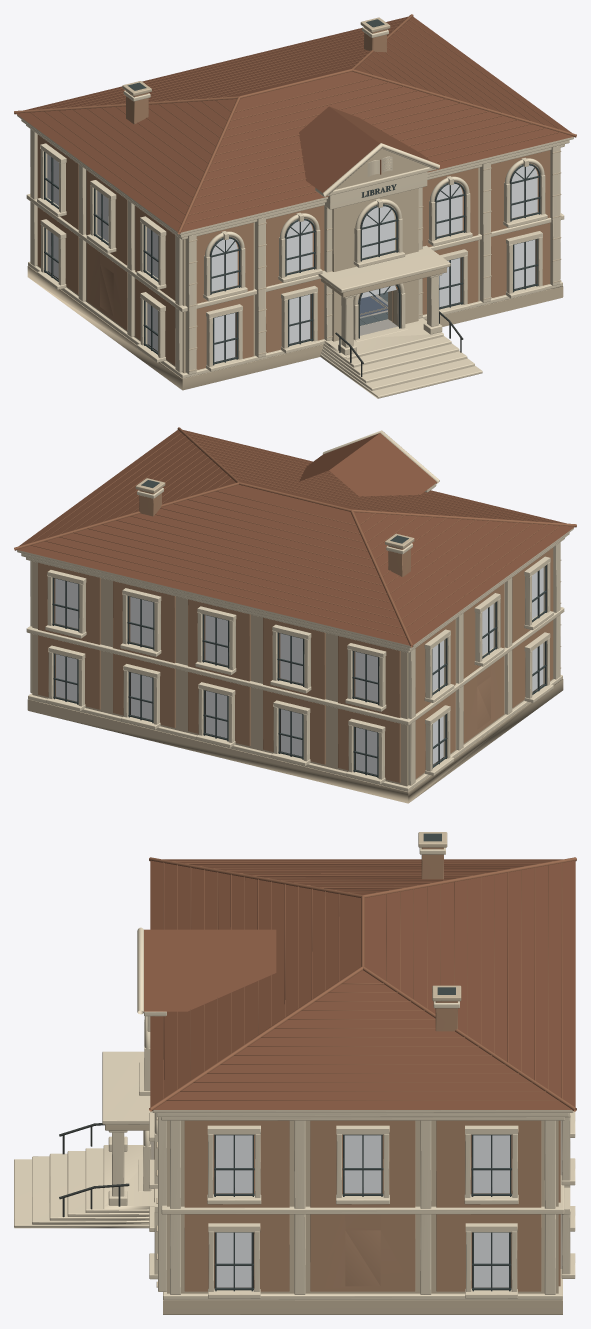
The model's file is SM_Library_Blockout.fbx.
The picture shows the model from 3 angles, top to bottom: view 1: azimuth 30°, elevation 25°; view 2: azimuth 150°, elevation 25°; view 3: azimuth 270°, elevation 25°; orthographic projection. The views are drawn at different scales.
Visible parts, largest first — view 1: Main_Hipped_Roof.001, Foundation.001, Central_Gable_Roof.001, Central_Risalit.001, Side_Brick_Field.007, Front_Brick_Bay.009, Front_Brick_Bay.006, Front_Brick_Bay.005, Front_Brick_Bay.008, Portico_Cornice.001, Side_Brick_Field.008, Side_Brick_Field.006 (+55 smaller); view 2: Main_Hipped_Roof.001, Main_Warm_Render.001, Foundation.001, Central_Gable_Roof.001, Rear_Brick_Field.009, Rear_Brick_Field.005, Rear_Brick_Field.006, Rear_Brick_Field.007, Rear_Brick_Field.008, Side_Brick_Field.007, Continuous_Cornice.006, Side_Brick_Field.006 (+36 smaller); view 3: Main_Hipped_Roof.001, Side_Brick_Field.010, Side_Brick_Field.011, Side_Brick_Field.009, Central_Gable_Roof.001, Main_Warm_Render.001, Foundation.001, Continuous_Cornice.006, Portico_Cornice.001, Continuous_Cornice.005, Side_Upper_Glass.007, Continuous_Cornice.008 (+32 smaller).
Boxes of the visible parts, x1,y1,x2,y2 form: Main_Hipped_Roof.001: (16, 16, 573, 232); Foundation.001: (27, 266, 563, 390); Central_Gable_Roof.001: (299, 106, 432, 192); Central_Risalit.001: (332, 188, 418, 341); Side_Brick_Field.007: (86, 170, 127, 330); Front_Brick_Bay.009: (491, 150, 550, 297); Front_Brick_Bay.006: (266, 205, 324, 352); Front_Brick_Bay.005: (196, 222, 253, 369); Front_Brick_Bay.008: (422, 168, 478, 314); Portico_Cornice.001: (318, 245, 450, 292); Side_Brick_Field.008: (37, 134, 78, 294); Side_Brick_Field.006: (135, 206, 175, 365); Main_Hipped_Roof.001: (17, 430, 574, 645); Main_Warm_Render.001: (32, 561, 553, 786); Foundation.001: (27, 679, 563, 803); Central_Gable_Roof.001: (299, 433, 437, 496); Rear_Brick_Field.009: (38, 562, 100, 709); Rear_Brick_Field.005: (338, 636, 400, 782); Rear_Brick_Field.006: (263, 617, 325, 764); Rear_Brick_Field.007: (188, 599, 250, 746); Rear_Brick_Field.008: (113, 581, 175, 727); Side_Brick_Field.007: (463, 583, 504, 743); Continuous_Cornice.006: (26, 607, 564, 725); Side_Brick_Field.006: (512, 548, 553, 707); Main_Hipped_Roof.001: (150, 859, 575, 1109); Side_Brick_Field.010: (310, 1120, 415, 1291); Side_Brick_Field.011: (436, 1120, 541, 1291); Side_Brick_Field.009: (184, 1120, 289, 1291); Central_Gable_Roof.001: (143, 929, 276, 1011); Main_Warm_Render.001: (167, 1120, 558, 1293); Foundation.001: (163, 1300, 562, 1314); Continuous_Cornice.006: (161, 1175, 564, 1214); Portico_Cornice.001: (102, 1051, 152, 1124); Continuous_Cornice.005: (163, 1269, 562, 1300); Side_Upper_Glass.007: (344, 1135, 381, 1193); Continuous_Cornice.008: (156, 1113, 569, 1117).
Size of the model in its own units: 2131 by 2013 by 1086.
